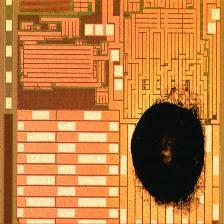PARTICLE: (125, 80, 213, 220)
